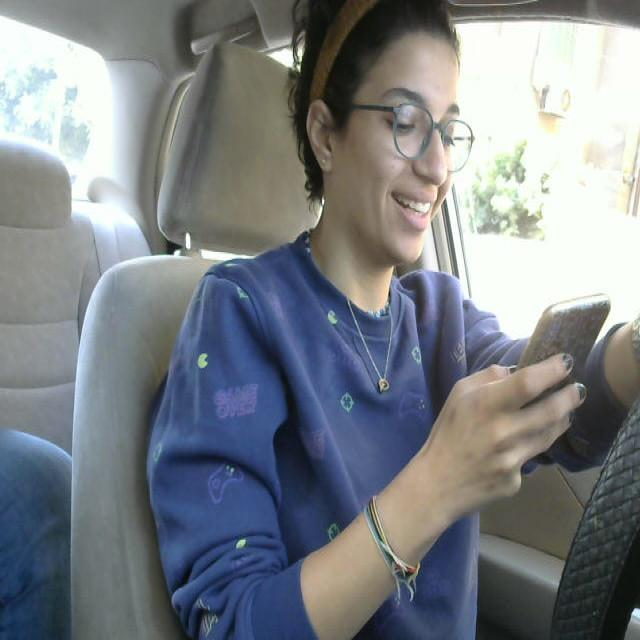mobile use: (504, 296, 621, 420)
